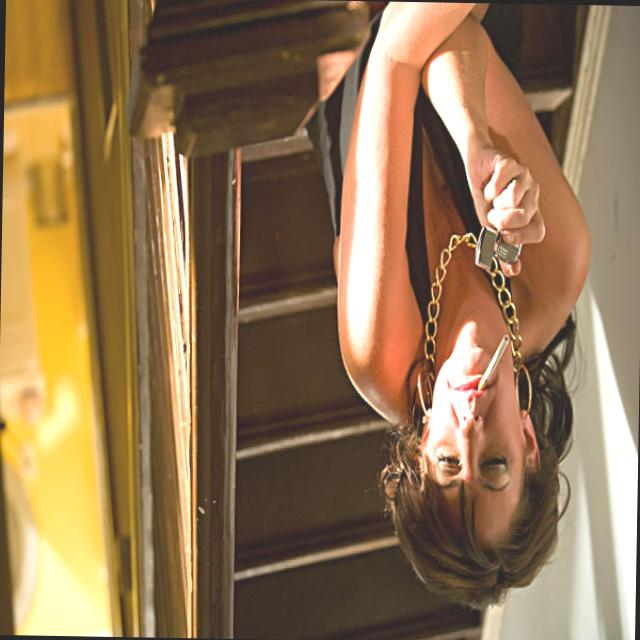smoke: (475, 332, 508, 397)
